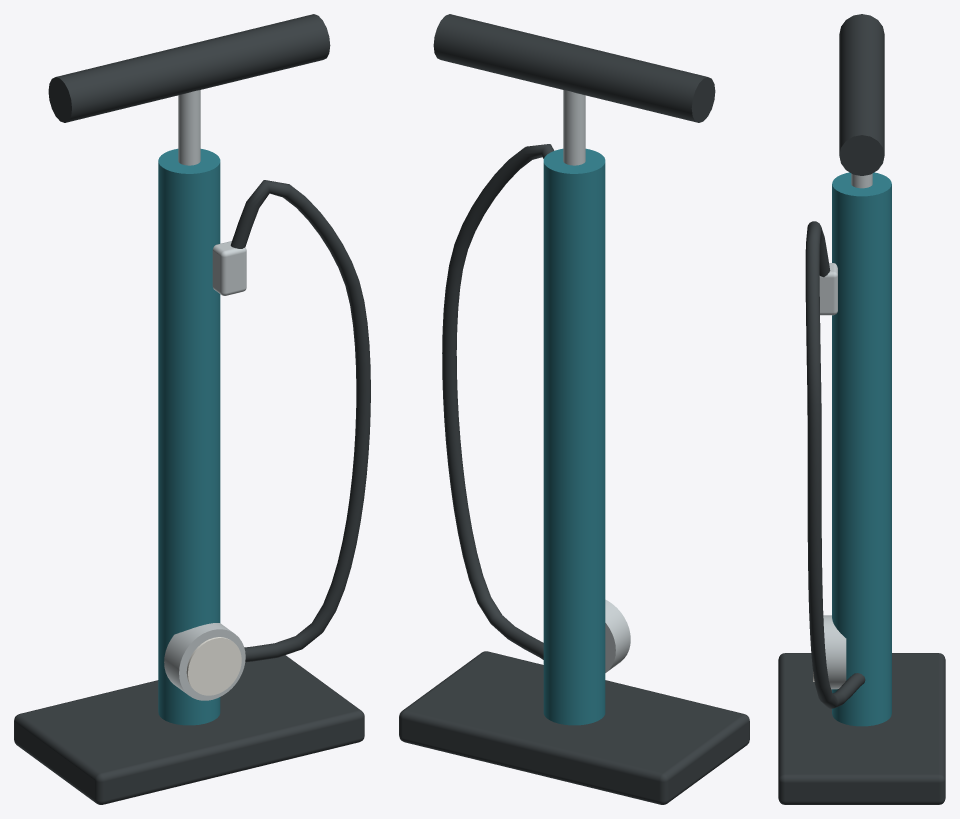
The model's file is bicycle-shop-and-repair-cafe-floor-pump-347171db.glb.
The picture shows the model from 3 angles, left to right: view 1: azimuth 30°, elevation 25°; view 2: azimuth 150°, elevation 25°; view 3: azimuth 270°, elevation 25°; orthographic projection. The views are drawn at different scales.
Parts seen in each view (by area): view 1: floor-pump; view 2: floor-pump; view 3: floor-pump.
Part boxes in pixels (<box>): floor-pump: <box>14,14,370,804</box>; floor-pump: <box>399,14,749,804</box>; floor-pump: <box>778,14,945,804</box>.
Bounding box in the file's own units: 0.27 × 0.619 × 0.14.
